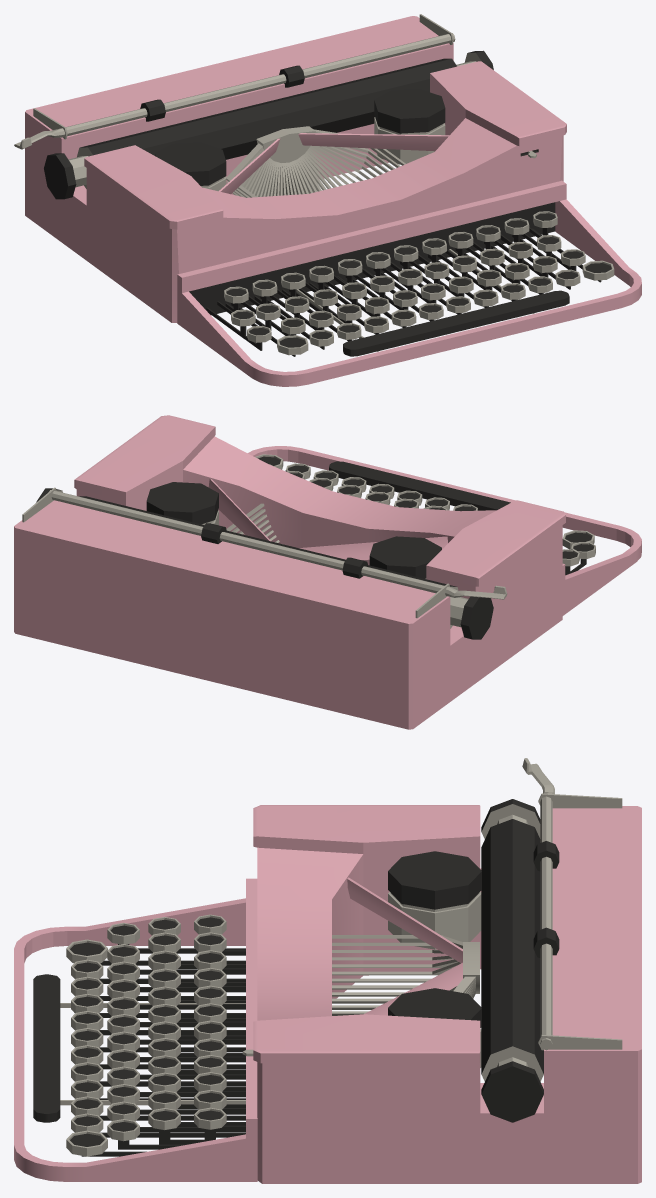
Rendered from typewriter.glb.
3 renders of one model, top to bottom at view 1: azimuth 30°, elevation 25°; view 2: azimuth 150°, elevation 25°; view 3: azimuth 270°, elevation 25°, orthographic. The views are drawn at different scales.
Parts seen in each view (by area): view 1: group2 Typewriter pCube2, Typewriter group1 pCube1, group2 Typewriter pCylinder5, group2 Typewriter KeyTHingy, group2 Typewriter pCylinder7, Typewriter group1 spaceKey, pCylinder4 group2 Typewriter, Typewriter group1 pCylinder3 pCylinder3, group2 Typewriter pCube7, group2 Typewriter pCylinder6, group2 Typewriter pCube8, Typewriter group1 bottomRowKey10 (+13 smaller); view 2: group2 Typewriter pCube2, Typewriter group1 pCube1, group2 Typewriter pCylinder7, Typewriter group1 spaceKey, group2 Typewriter pCylinder5, pCylinder4 group2 Typewriter, Typewriter group1 pCylinder3 pCylinder3, group2 Typewriter pCube8, group2 Typewriter pCube7, group2 Typewriter KeyTHingy; view 3: group2 Typewriter pCube2, group2 Typewriter pCylinder5, Typewriter group1 pCube1, Typewriter group1 pCylinder3 pCylinder3, group2 Typewriter KeyTHingy, Typewriter group1 spaceKey, group2 Typewriter pCylinder7, pCylinder4 group2 Typewriter, group2 Typewriter pCube8, Typewriter group1 bottomRowKey11, Typewriter group1 bottomRowKey10, Typewriter group1 bottomRowKey9 (+48 smaller).
Boxes of the visible parts, left/top/right/bottom form: group2 Typewriter pCube2: left=25, top=16, right=566, bottom=322; Typewriter group1 pCube1: left=177, top=180, right=641, bottom=386; group2 Typewriter pCylinder5: left=44, top=50, right=493, bottom=199; group2 Typewriter KeyTHingy: left=226, top=129, right=405, bottom=197; group2 Typewriter pCylinder7: left=14, top=33, right=455, bottom=149; Typewriter group1 spaceKey: left=296, top=249, right=569, bottom=356; pCylinder4 group2 Typewriter: left=374, top=89, right=445, bottom=164; Typewriter group1 pCylinder3 pCylinder3: left=155, top=142, right=226, bottom=191; group2 Typewriter pCube7: left=298, top=133, right=449, bottom=151; group2 Typewriter pCylinder6: left=256, top=126, right=315, bottom=162; group2 Typewriter pCube8: left=219, top=138, right=280, bottom=194; Typewriter group1 bottomRowKey10: left=225, top=303, right=308, bottom=356; group2 Typewriter pCube2: left=14, top=415, right=565, bottom=729; Typewriter group1 pCube1: left=248, top=446, right=641, bottom=615; group2 Typewriter pCylinder7: left=49, top=490, right=507, bottom=599; Typewriter group1 spaceKey: left=329, top=461, right=510, bottom=510; group2 Typewriter pCylinder5: left=36, top=488, right=493, bottom=639; pCylinder4 group2 Typewriter: left=146, top=482, right=218, bottom=525; Typewriter group1 pCylinder3 pCylinder3: left=369, top=536, right=441, bottom=578; group2 Typewriter pCube8: left=299, top=536, right=447, bottom=559; group2 Typewriter pCube7: left=208, top=479, right=270, bottom=541; group2 Typewriter KeyTHingy: left=226, top=503, right=279, bottom=542; group2 Typewriter pCube2: left=253, top=805, right=641, bottom=1183; group2 Typewriter pCylinder5: left=481, top=799, right=543, bottom=1122; Typewriter group1 pCube1: left=14, top=878, right=257, bottom=1181; Typewriter group1 pCylinder3 pCylinder3: left=388, top=851, right=481, bottom=949; group2 Typewriter KeyTHingy: left=332, top=935, right=475, bottom=1015; Typewriter group1 spaceKey: left=33, top=974, right=245, bottom=1122; group2 Typewriter pCylinder7: left=522, top=758, right=559, bottom=1050; pCylinder4 group2 Typewriter: left=388, top=988, right=481, bottom=1067; group2 Typewriter pCube8: left=347, top=877, right=462, bottom=963; Typewriter group1 bottomRowKey11: left=66, top=1130, right=146, bottom=1156; Typewriter group1 bottomRowKey10: left=66, top=939, right=245, bottom=965; Typewriter group1 bottomRowKey9: left=71, top=1113, right=245, bottom=1137.
Bounding box in the file's own units: 25.35 × 6.25 × 23.4.
Materials: 1 (1 with a texture image).
